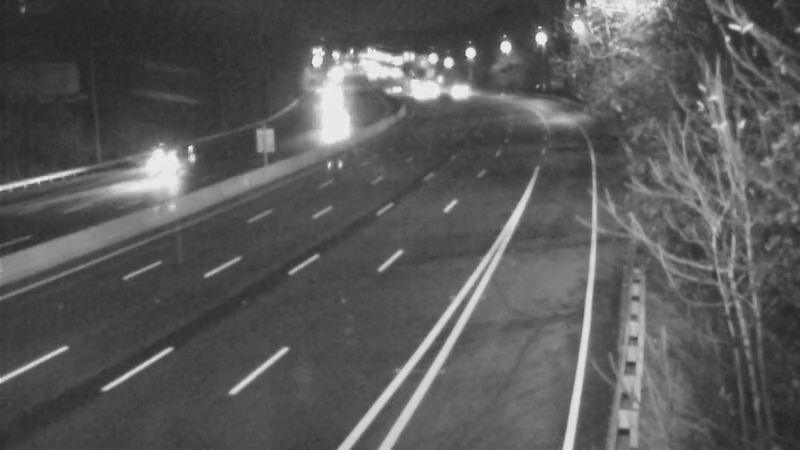vehicle: (115, 127, 195, 207), (439, 66, 489, 116), (310, 96, 360, 146)
